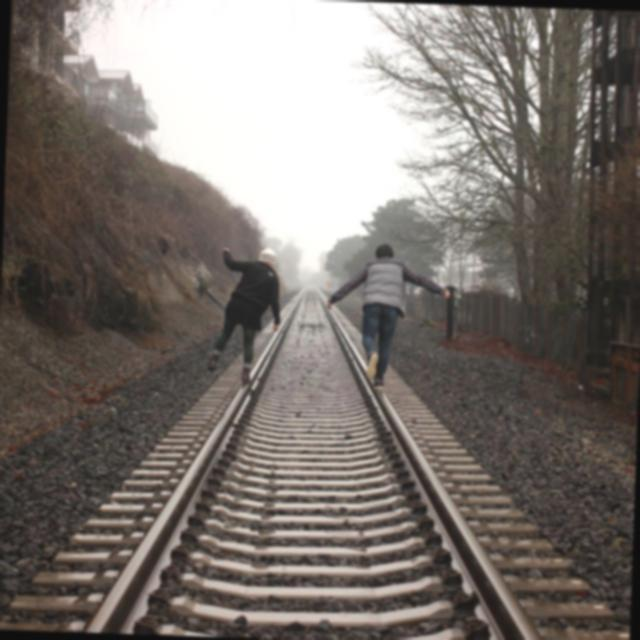danger: (321, 241, 465, 400), (199, 233, 288, 395)
rail: (87, 293, 304, 635), (328, 309, 542, 640)
